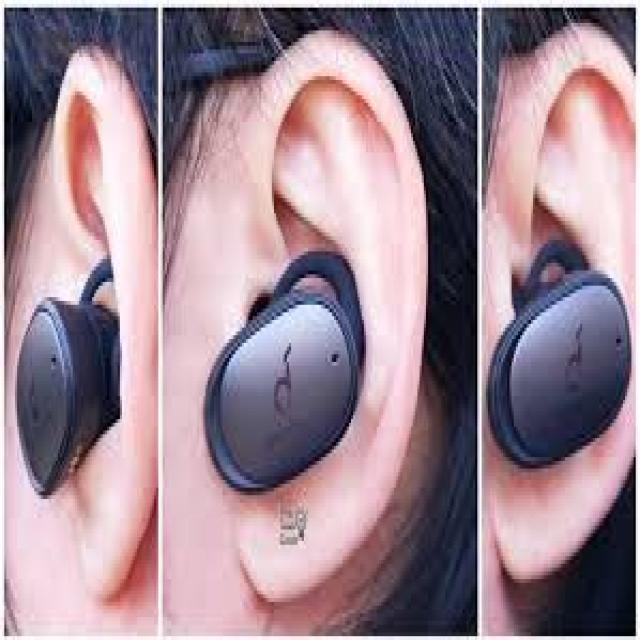earphone: (204, 229, 371, 495), (496, 223, 626, 498), (18, 235, 130, 506)
